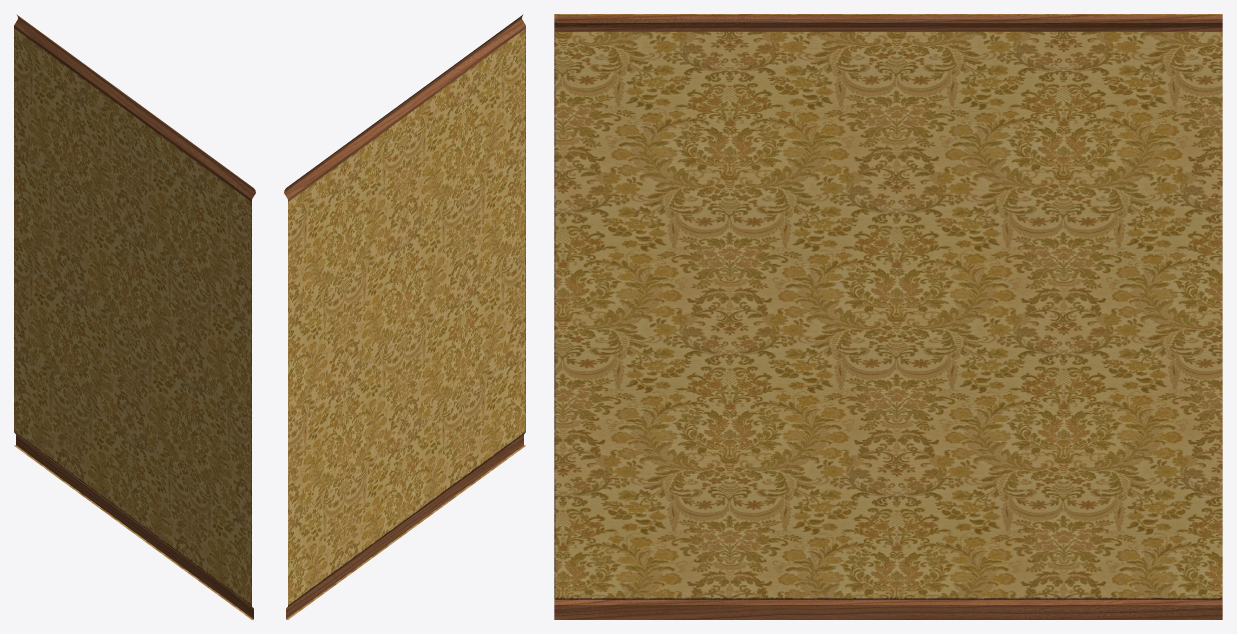
The model's file is gold1.dae.
3 views of the same model, side by side, from view 1: azimuth 30°, elevation 25°; view 2: azimuth 150°, elevation 25°; view 3: azimuth 270°, elevation 25° (orthographic). The views are drawn at different scales.
Parts seen in each view (by area): view 1: Plane_002; view 2: Plane_002; view 3: Plane_002.
Boxes of the visible parts, x1,y1,x2,y2 form: Plane_002: (14,14,255,619); Plane_002: (284,14,525,619); Plane_002: (554,14,1222,619).
Bounding box in the file's own units: 0.0388 × 4 × 4.
1 material, 1 textured.
